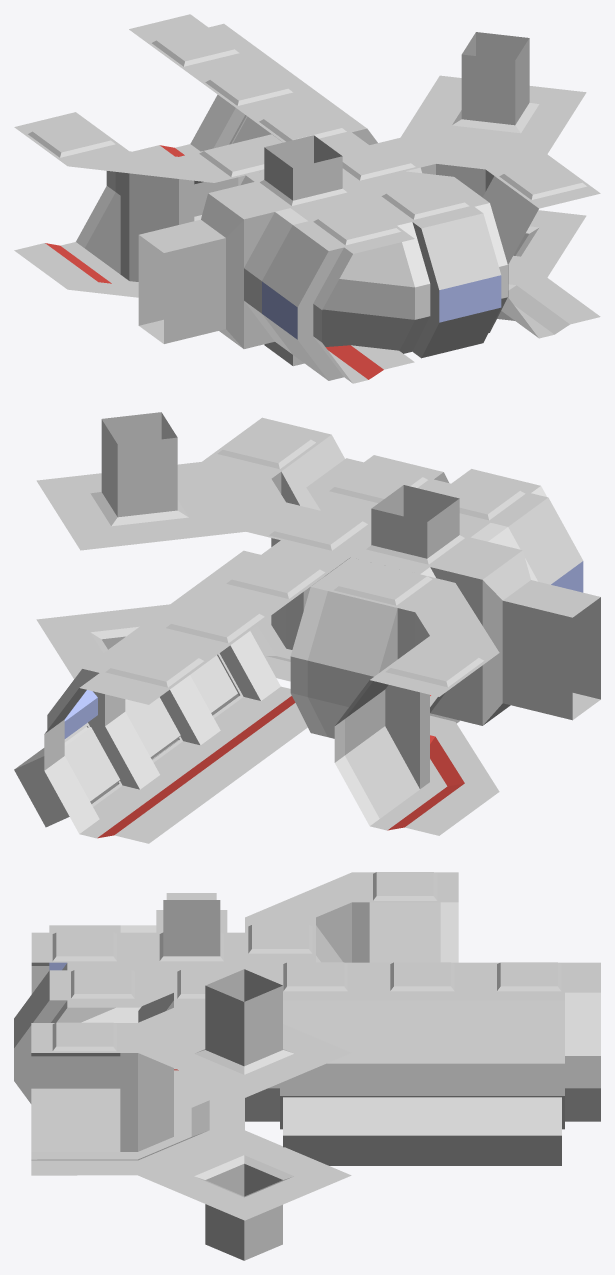
File: spacetile1_worldorigin.fbx
The picture shows the model from 3 angles, top to bottom: view 1: azimuth 30°, elevation 25°; view 2: azimuth 150°, elevation 25°; view 3: azimuth 270°, elevation 25°; orthographic projection. The views are drawn at different scales.
Parts seen in each view (by area): view 1: corridor.intersection.master, corridor.corner.outer, corridor.corner.inner, corridor.straight.double, corridor.triple, corridor.junction.horizontal, corridor.junction.circuit, corridor.junction.vertical, corridor.triplebrace, corridor.single2; view 2: corridor.triple, corridor.corner.inner, corridor.intersection.master, corridor.triplebrace, corridor.junction.horizontal, corridor.straight.double, corridor.junction.circuit, corridor.corner.outer, corridor.junction.vertical, corridor.single2; view 3: corridor.triple, corridor.intersection.master, corridor.corner.inner, corridor.corner.outer, corridor.triplebrace, corridor.straight.double, corridor.junction.vertical, corridor.junction.circuit.
Boxes of the visible parts, x1,y1,x2,y2 form: corridor.intersection.master: (338,32,600,338); corridor.corner.outer: (239,168,507,358); corridor.corner.inner: (14,112,282,297); corridor.straight.double: (244,192,414,383); corridor.triple: (129,14,377,156); corridor.junction.horizontal: (138,219,225,343); corridor.junction.circuit: (201,172,360,348); corridor.junction.vertical: (264,135,342,366); corridor.triplebrace: (134,117,281,156); corridor.single2: (241,171,356,211); corridor.triple: (14,540,349,843); corridor.corner.inner: (290,557,499,835); corridor.intersection.master: (36,412,371,681); corridor.triplebrace: (15,656,292,843); corridor.junction.horizontal: (502,580,600,720); corridor.straight.double: (429,469,583,712); corridor.junction.circuit: (366,526,530,725); corridor.corner.outer: (306,455,487,708); corridor.junction.vertical: (371,485,460,723); corridor.single2: (351,536,461,703); corridor.triple: (245,962,600,1165); corridor.intersection.master: (31,963,351,1260); corridor.corner.inner: (245,872,458,962); corridor.corner.outer: (14,925,244,1114); corridor.triplebrace: (283,1000,564,1165); corridor.straight.double: (31,925,161,993); corridor.junction.vertical: (163,900,220,956); corridor.junction.circuit: (138,910,244,1084).
Bounding box in the file's own units: 1500 × 802 × 1649.
